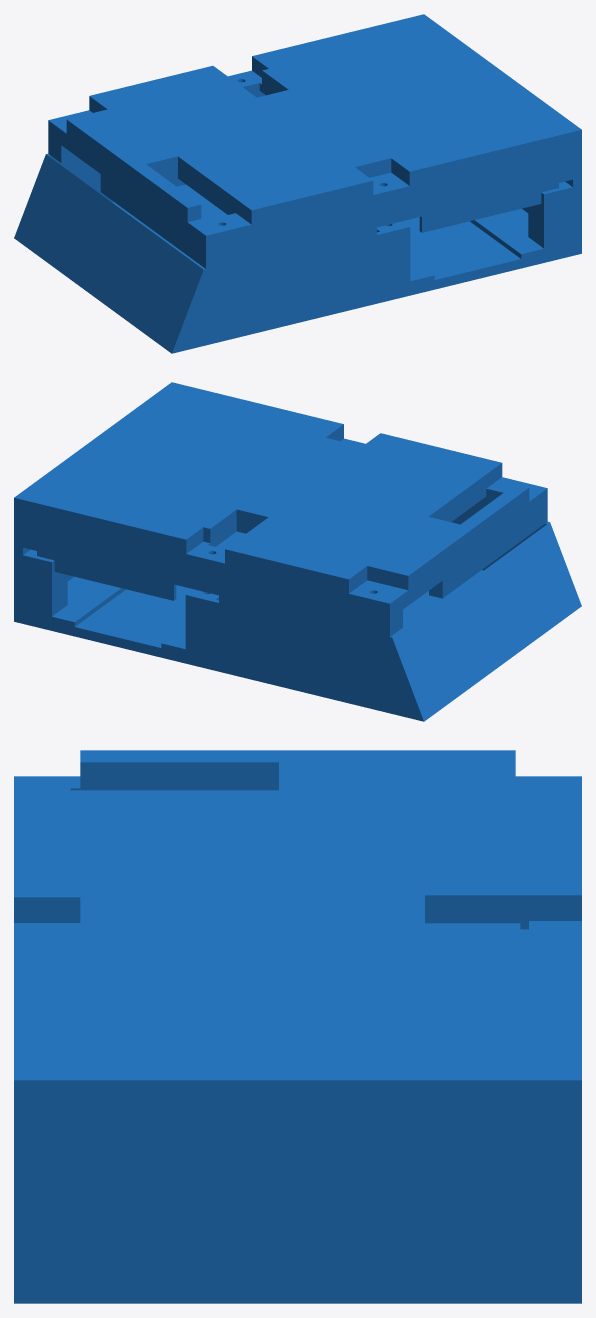
Rendered from Robot3d.glb.
3 views of the same model, one above another, from view 1: azimuth 30°, elevation 25°; view 2: azimuth 150°, elevation 25°; view 3: azimuth 270°, elevation 25° (orthographic). The views are drawn at different scales.
Parts seen in each view (by area): view 1: Mesh_Mesh_head_geo.001_lambert2SG.001; view 2: Mesh_Mesh_head_geo.001_lambert2SG.001; view 3: Mesh_Mesh_head_geo.001_lambert2SG.001.
Part boxes in pixels (x1=…): Mesh_Mesh_head_geo.001_lambert2SG.001: x1=14, y1=14, x2=581, y2=353; Mesh_Mesh_head_geo.001_lambert2SG.001: x1=14, y1=382, x2=581, y2=721; Mesh_Mesh_head_geo.001_lambert2SG.001: x1=14, y1=750, x2=581, y2=1303.
Size of the model in its own units: 0.09 by 0.026 by 0.06.
